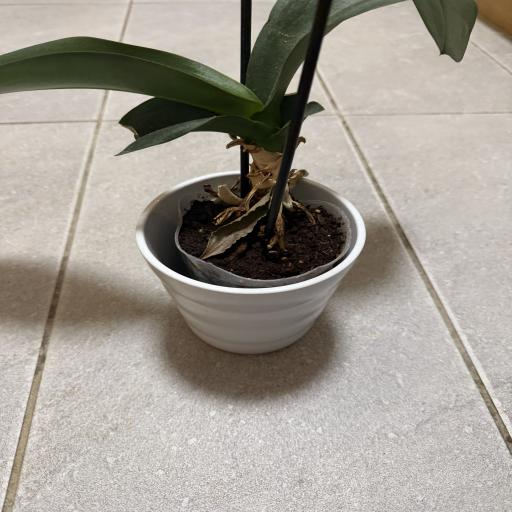Plant Pot: (134, 167, 370, 359)
